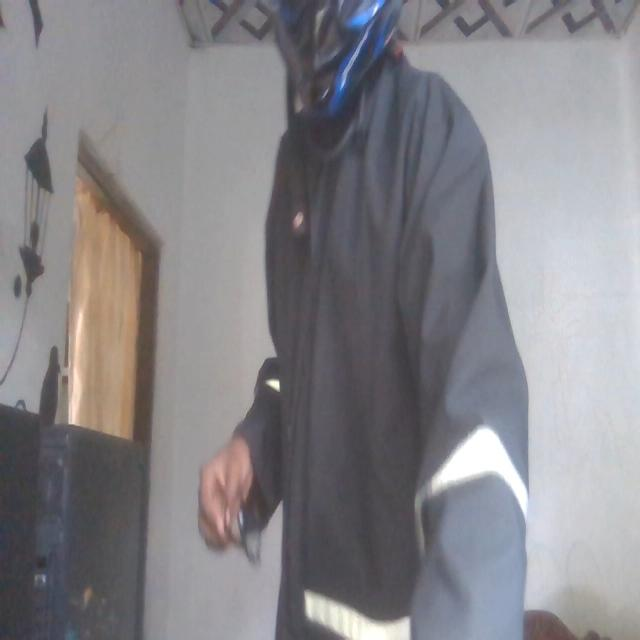Helmet_Wearer: (261, 0, 437, 135)
Jacket_Wearer: (242, 50, 534, 640)
Person: (217, 0, 539, 640)
